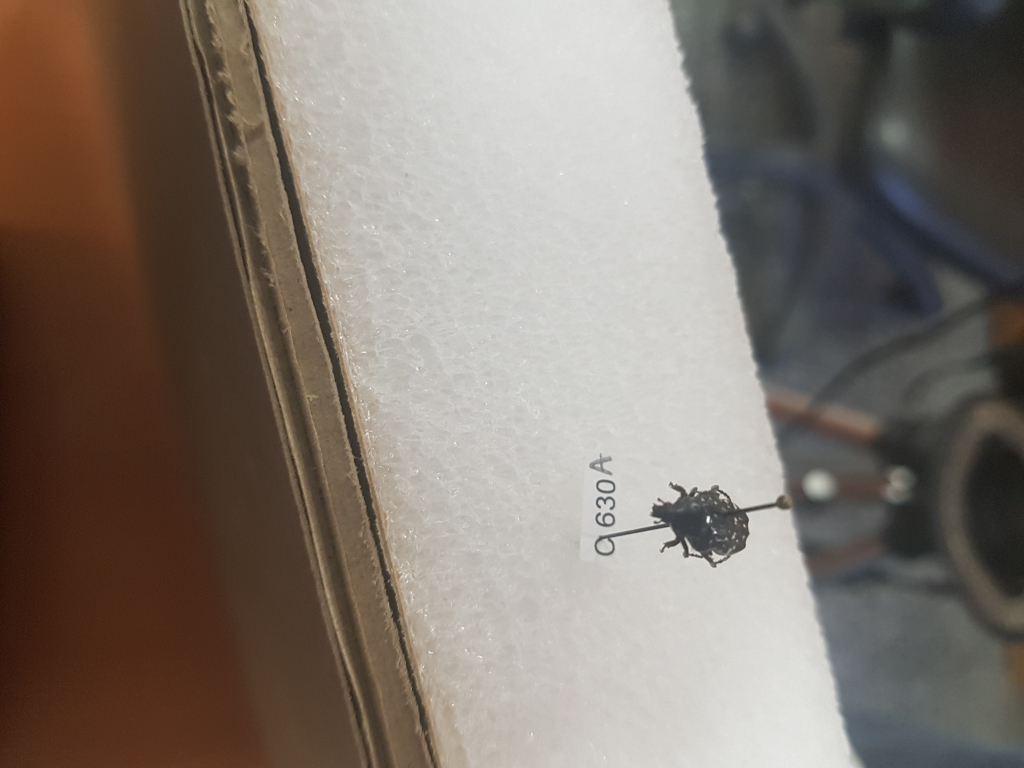Oxythyrea_albopicta: (649, 475, 760, 566)
